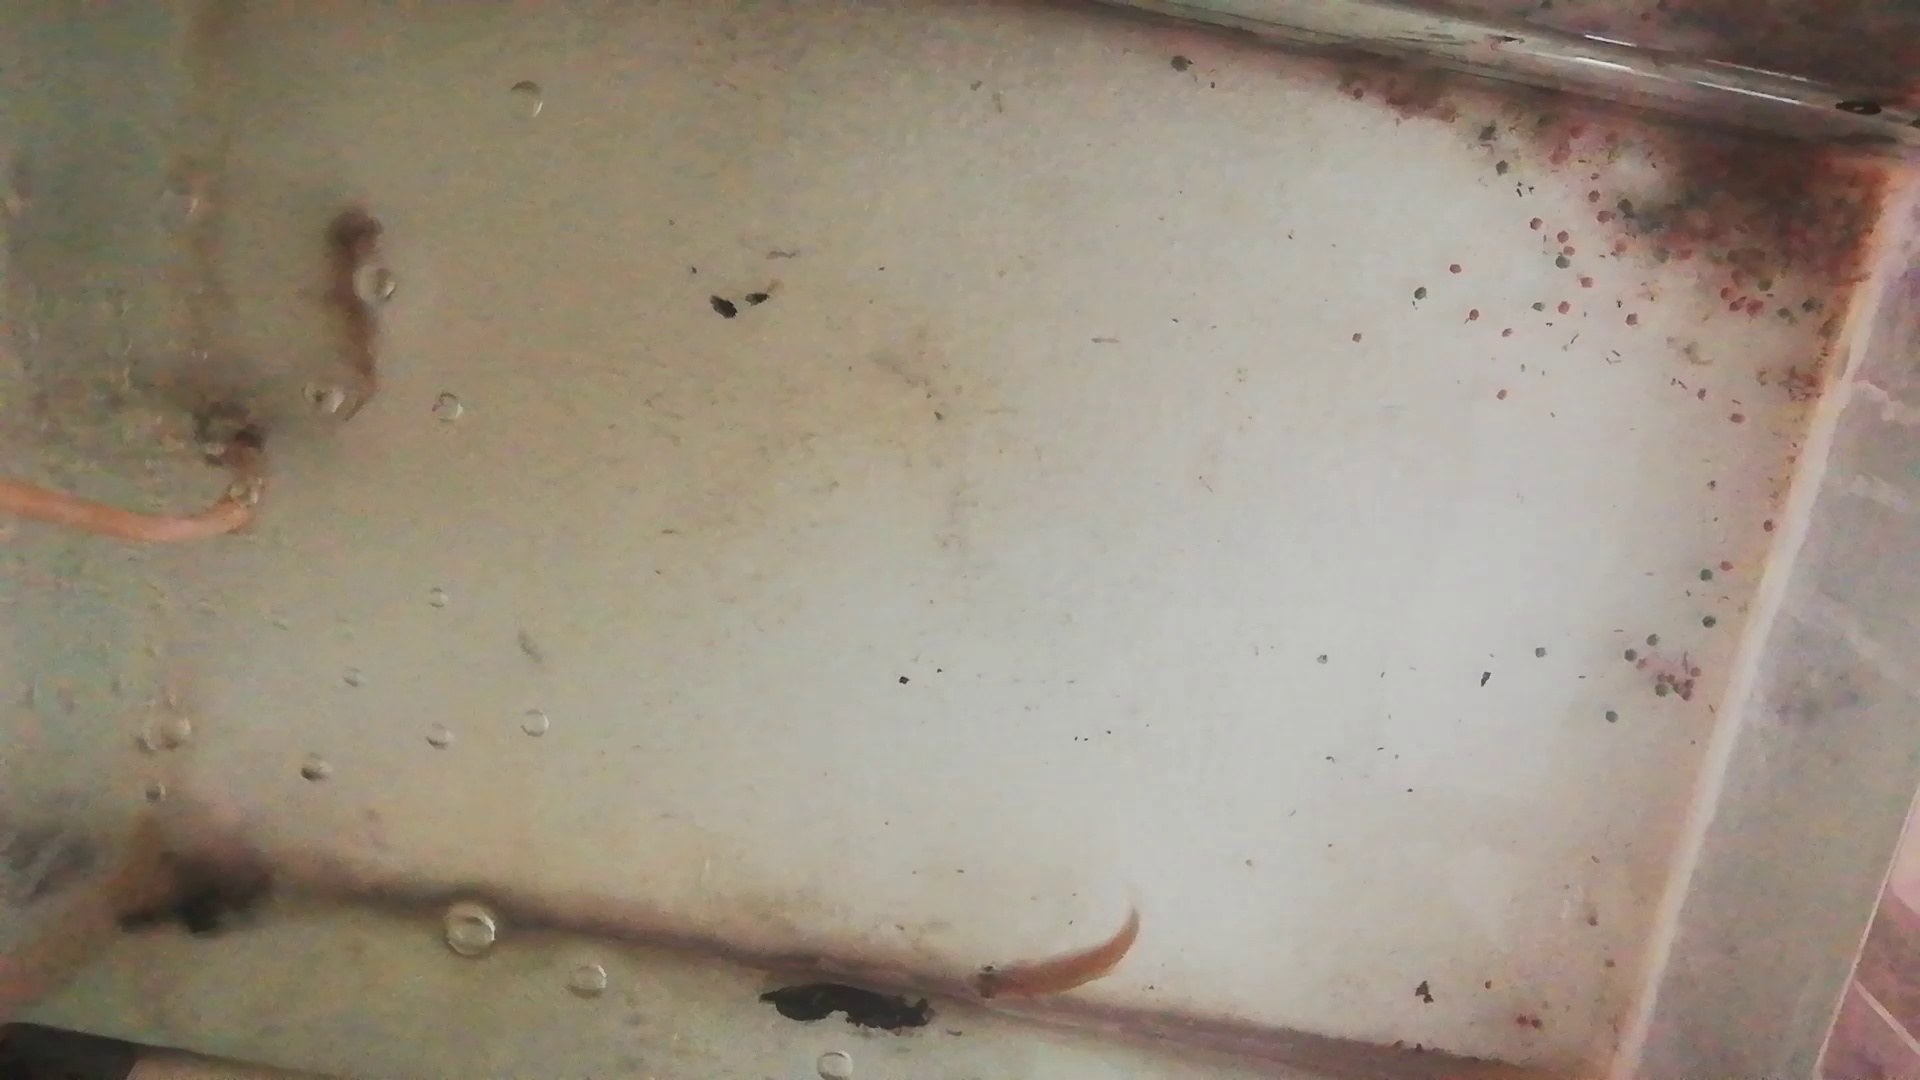fish: (973, 913, 1149, 997), (326, 204, 381, 417)
